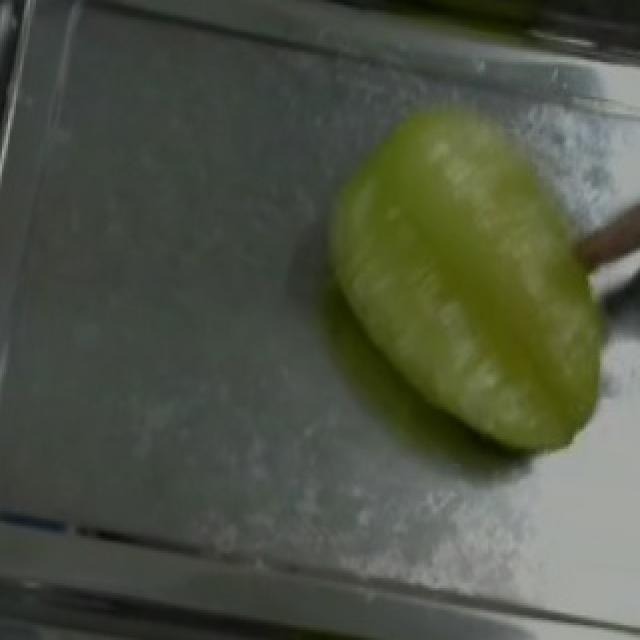fruit: (302, 37, 640, 464)
